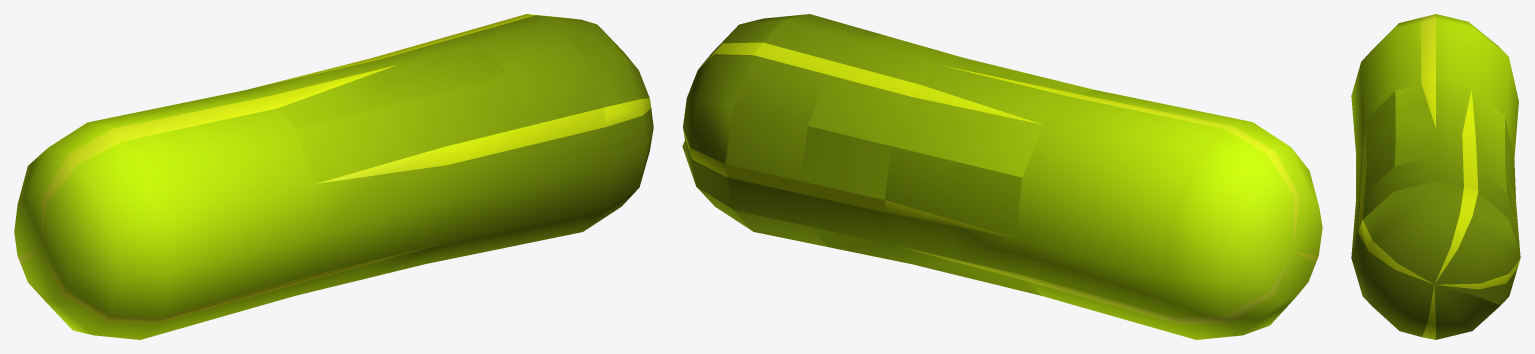
The model's file is Cucumber_01_Sliced.fbx.
3 views of the same model, side by side, from view 1: azimuth 30°, elevation 25°; view 2: azimuth 150°, elevation 25°; view 3: azimuth 270°, elevation 25° (orthographic). The views are drawn at different scales.
Parts seen in each view (by area): view 1: Cucumber_01_P5, Cucumber_01_P2, Cucumber_01_P1, Cucumber_01_P3, Cucumber_01_P4, Cucumber_01_Sliced; view 2: Cucumber_01_P5, Cucumber_01_P2, Cucumber_01_P1, Cucumber_01_P3, Cucumber_01_P4, Cucumber_01_Sliced; view 3: Cucumber_01_Sliced, Cucumber_01_P5, Cucumber_01_P2, Cucumber_01_P1, Cucumber_01_P3, Cucumber_01_P4.
Boxes of the visible parts, x1,y1,x2,y2 form: Cucumber_01_P5: (14, 90, 321, 339); Cucumber_01_P2: (373, 34, 535, 263); Cucumber_01_P1: (454, 14, 610, 246); Cucumber_01_P3: (308, 58, 451, 279); Cucumber_01_P4: (245, 74, 386, 295); Cucumber_01_Sliced: (530, 14, 653, 231); Cucumber_01_P5: (1016, 90, 1322, 339); Cucumber_01_P2: (800, 35, 963, 263); Cucumber_01_P1: (725, 14, 882, 246); Cucumber_01_P3: (884, 58, 1029, 279); Cucumber_01_P4: (951, 74, 1094, 295); Cucumber_01_Sliced: (682, 14, 808, 231); Cucumber_01_Sliced: (1351, 181, 1520, 339); Cucumber_01_P5: (1351, 14, 1518, 157); Cucumber_01_P2: (1353, 128, 1518, 229); Cucumber_01_P1: (1351, 156, 1520, 257); Cucumber_01_P3: (1356, 104, 1515, 199); Cucumber_01_P4: (1356, 80, 1515, 178).
Size of the model in its own units: 120 by 39.51 by 39.51.
